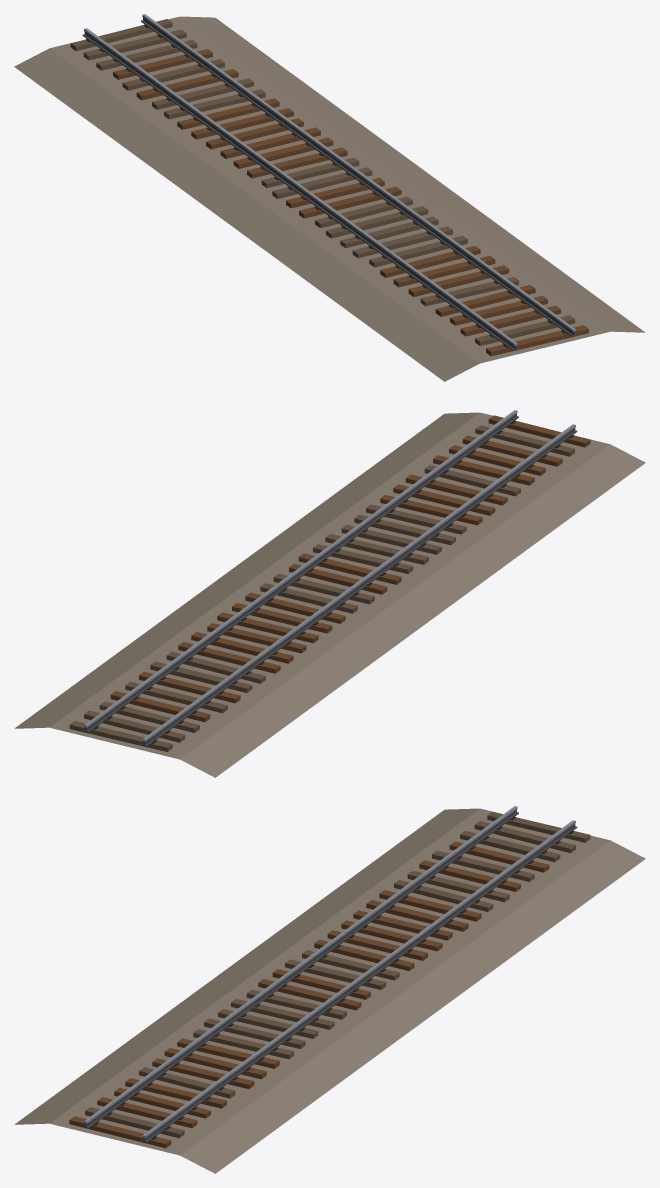
Rendered from SM_Track_Straight_20m.fbx.
3 renders of one model, top to bottom at view 1: azimuth 30°, elevation 25°; view 2: azimuth 150°, elevation 25°; view 3: azimuth 330°, elevation 25°, orthographic.
Visible parts, largest first — view 1: Track_Straight_20m; view 2: Track_Straight_20m; view 3: Track_Straight_20m.
Part boxes in pixels (box(x1,y1,x2,y2)): Track_Straight_20m: box(14, 14, 645, 381); Track_Straight_20m: box(14, 410, 645, 777); Track_Straight_20m: box(14, 806, 645, 1173).
Size of the model in its own units: 540 by 2000 by 53.
